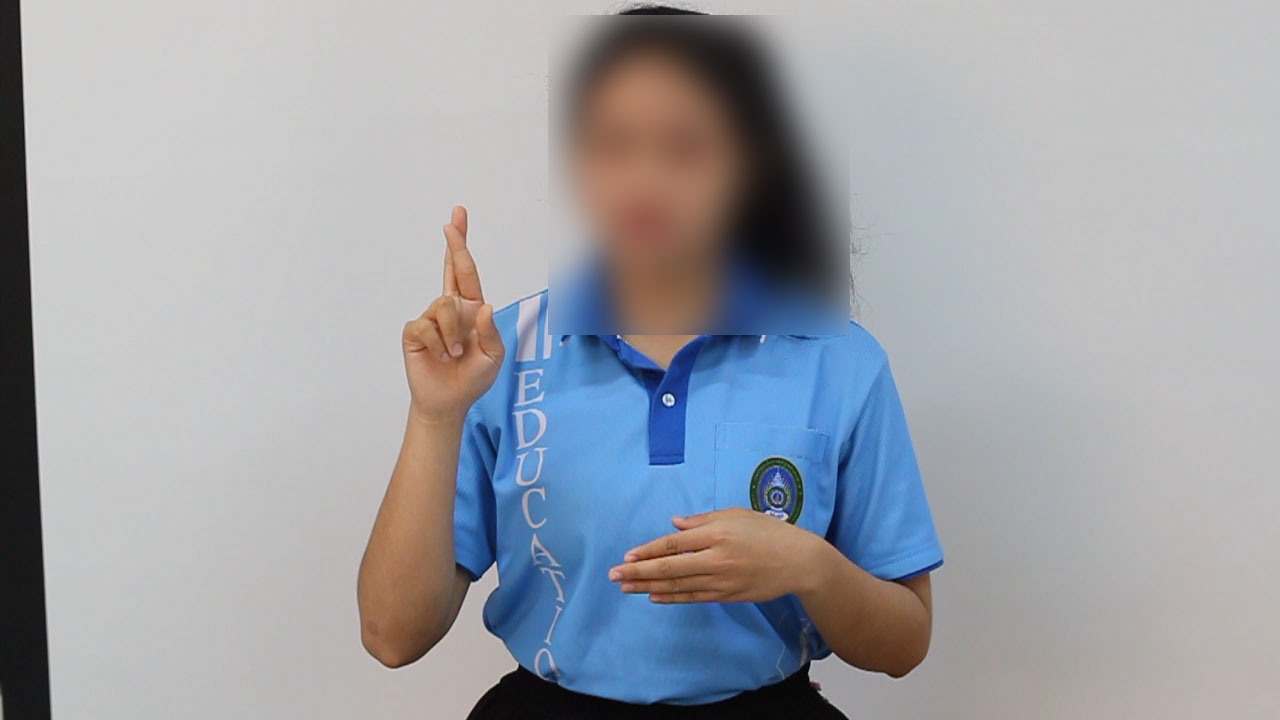rao: (381, 190, 513, 453)
